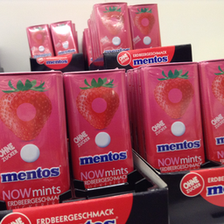candy: (1, 71, 68, 206), (65, 69, 137, 192), (144, 62, 204, 173), (95, 2, 134, 54), (127, 4, 162, 49), (50, 20, 79, 57), (27, 23, 54, 59)
